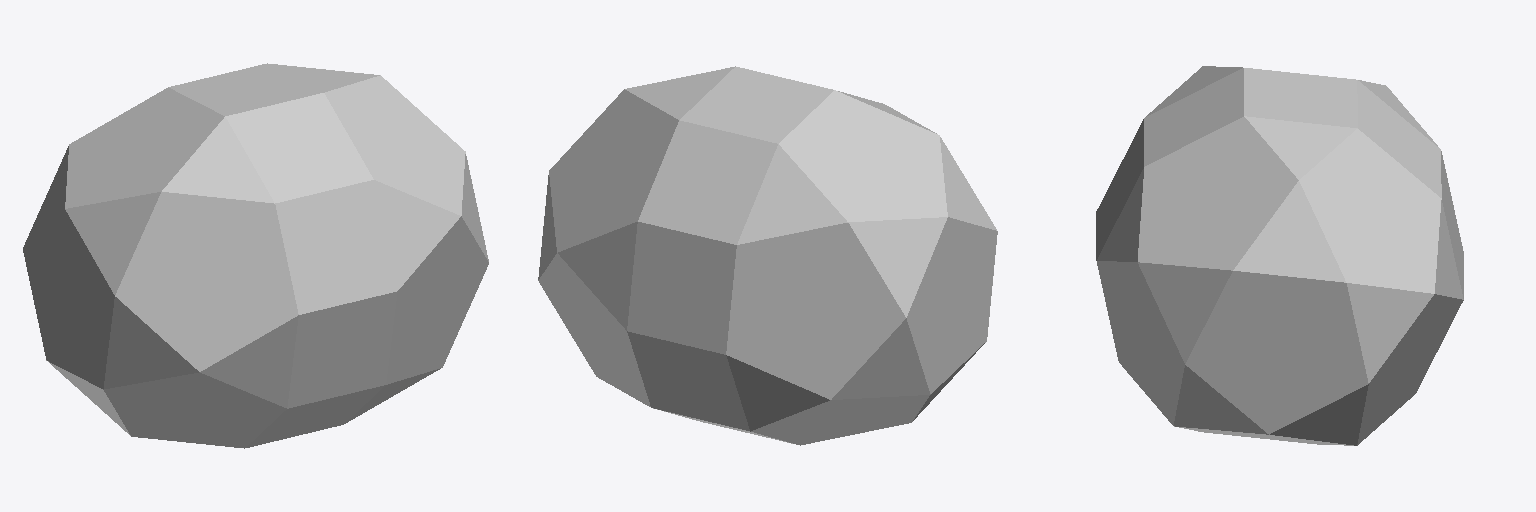
Rendered from ElongatedPentagonalGyroBiRotunda.obj.
3 views of the same model, side by side, from view 1: azimuth 30°, elevation 25°; view 2: azimuth 150°, elevation 25°; view 3: azimuth 270°, elevation 25° (orthographic).
Parts seen in each view (by area): view 1: ElongatedPentagonalGyroBiRotunda; view 2: ElongatedPentagonalGyroBiRotunda; view 3: ElongatedPentagonalGyroBiRotunda.
Part boxes in pixels (bbox=[...]): ElongatedPentagonalGyroBiRotunda: bbox=[23, 63, 488, 448]; ElongatedPentagonalGyroBiRotunda: bbox=[538, 66, 997, 445]; ElongatedPentagonalGyroBiRotunda: bbox=[1096, 66, 1463, 445].
Size of the model in its own units: 2.82 by 2.38 by 2.41.